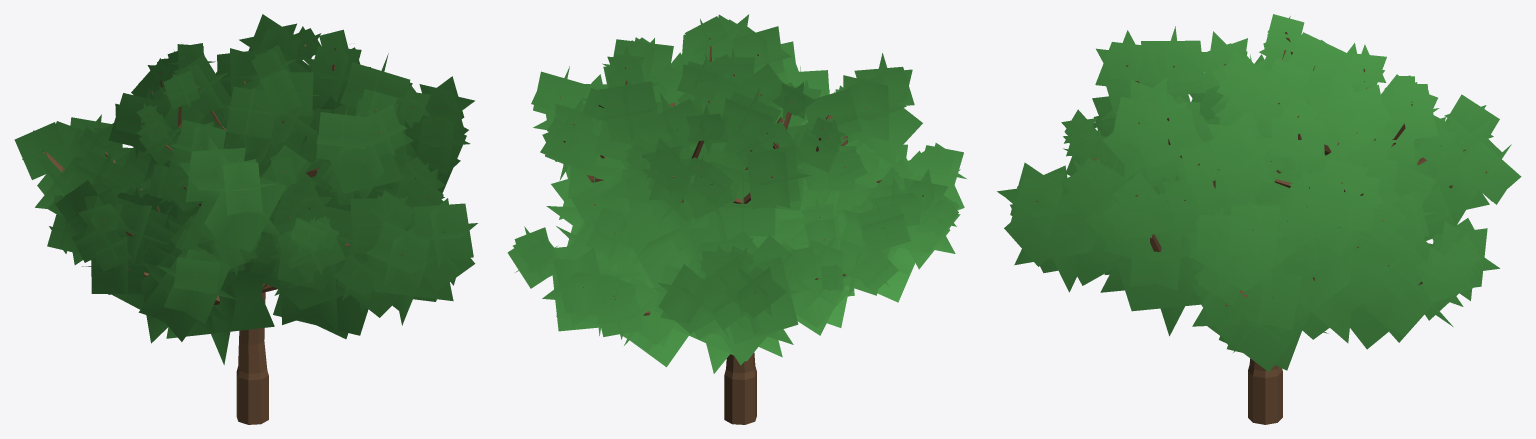
The model's file is OakTree.fbx.
The picture shows the model from 3 angles, left to right: view 1: azimuth 30°, elevation 25°; view 2: azimuth 150°, elevation 25°; view 3: azimuth 270°, elevation 25°; orthographic projection. The views are drawn at different scales.
Parts seen in each view (by area): view 1: OakLeaves.390, OakTreeWithoutHole, OakTreeWithoutHole.001; view 2: OakLeaves.390, OakTreeWithoutHole; view 3: OakLeaves.390, OakTreeWithoutHole.
Boxes of the visible parts, x1,y1,x2,y2 form: OakLeaves.390: (14, 14, 477, 364); OakTreeWithoutHole: (42, 61, 443, 424); OakTreeWithoutHole.001: (84, 44, 442, 253); OakLeaves.390: (507, 14, 966, 373); OakTreeWithoutHole: (563, 38, 875, 424); OakLeaves.390: (997, 14, 1521, 371); OakTreeWithoutHole: (1036, 65, 1486, 424).
Bounding box in the file's own units: 1533 × 1285 × 1634.
